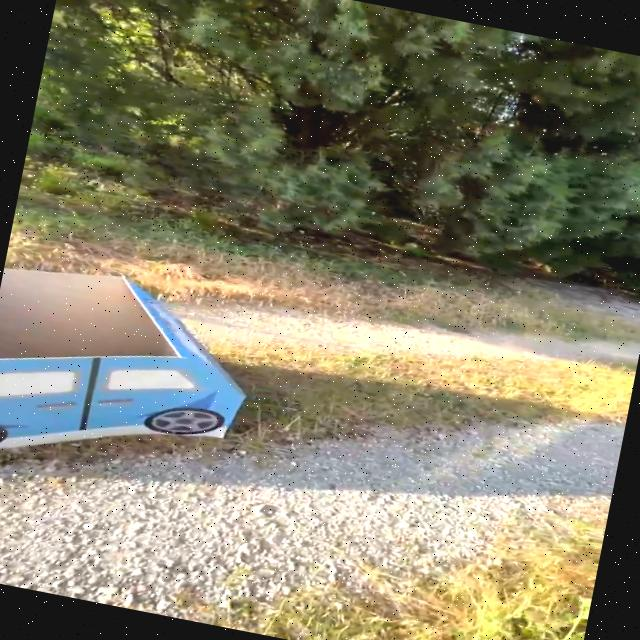blue_car: (0, 234, 300, 528)
